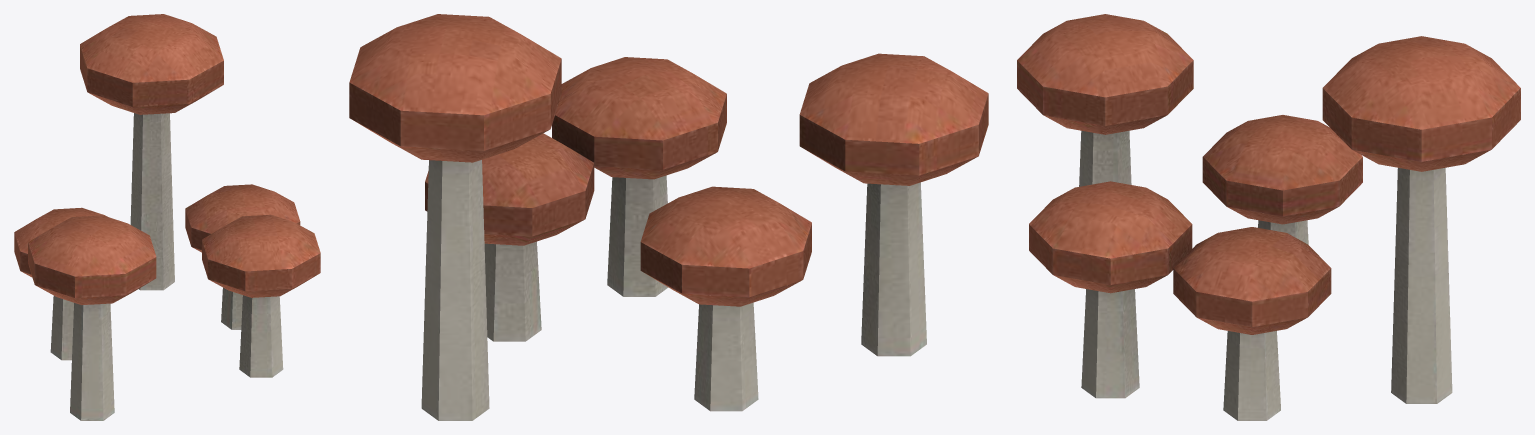
File: cogumelos.glb
The picture shows the model from 3 angles, left to right: view 1: azimuth 30°, elevation 25°; view 2: azimuth 150°, elevation 25°; view 3: azimuth 270°, elevation 25°; orthographic projection. The views are drawn at different scales.
Parts seen in each view (by area): view 1: cogumelos; view 2: cogumelos; view 3: cogumelos.
Boxes of the visible parts, left/top/right/bottom form: cogumelos: left=14, top=14, right=320, bottom=420; cogumelos: left=349, top=14, right=988, bottom=420; cogumelos: left=1017, top=14, right=1520, bottom=420.
Bounding box in the file's own units: 0.4393 × 0.3421 × 0.4583.
Materials: 1 (1 with a texture image).
